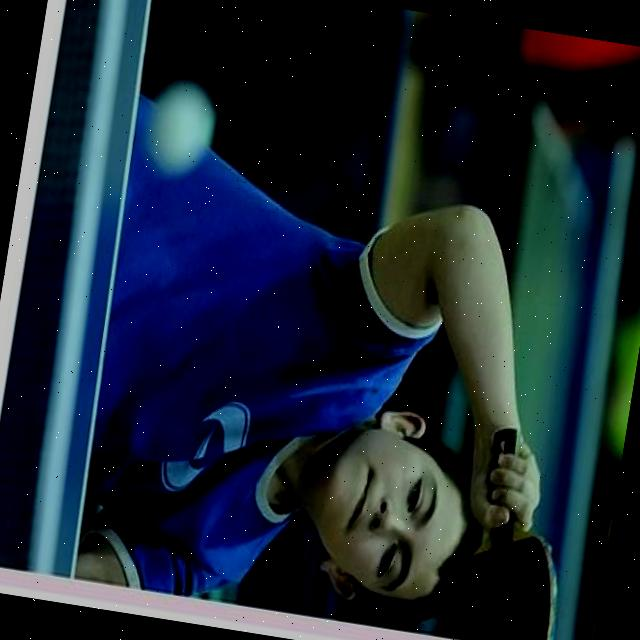ping-pong-ball: (135, 72, 224, 184)
